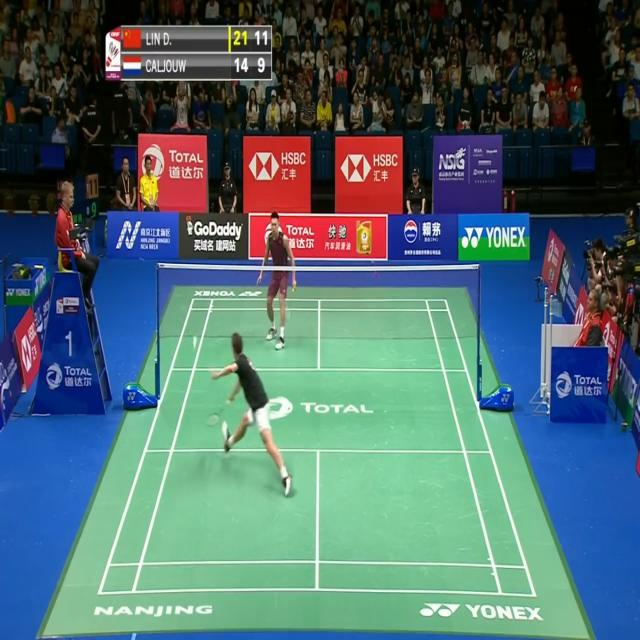Player1: (210, 334, 296, 496)
Player2: (256, 210, 301, 348)
